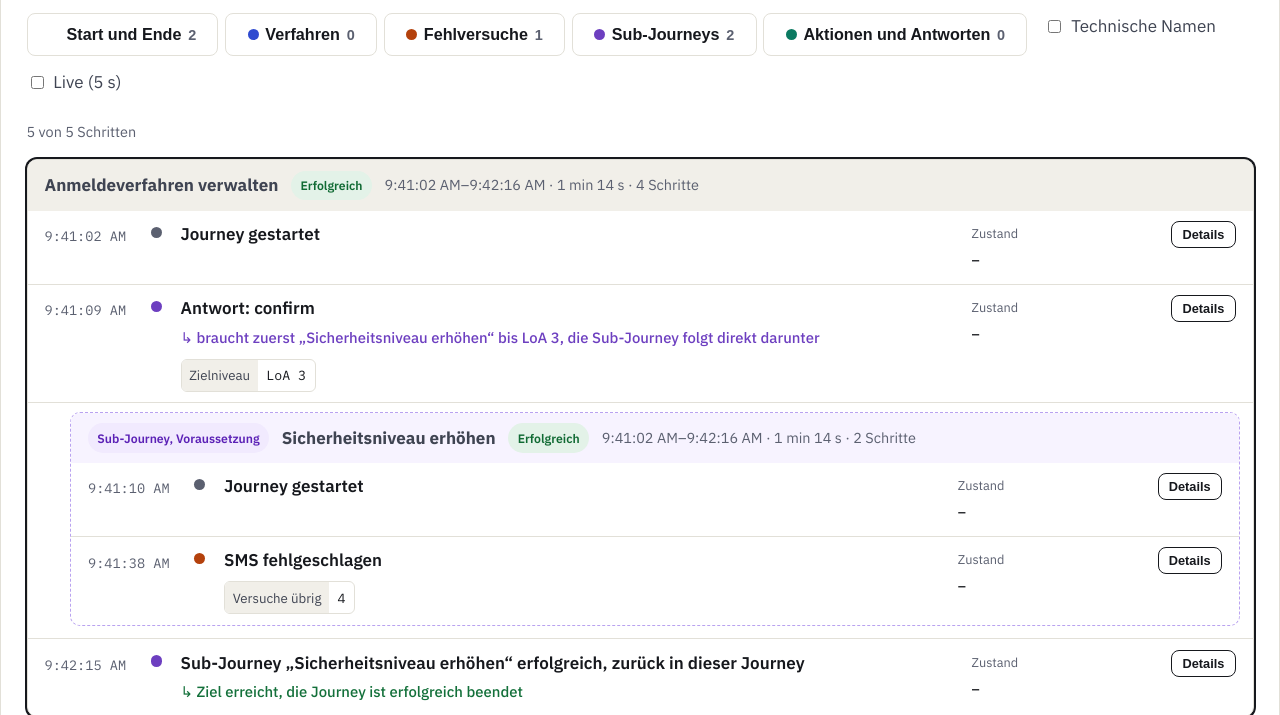
Test: JourneyTraceView › filters a channel’s steps by kind
The image size is (1280, 715).
(page scrolled)
Click the button "Fehlversuche 1" at (474, 35), box left=384, top=13, right=565, bottom=56
(page scrolled)
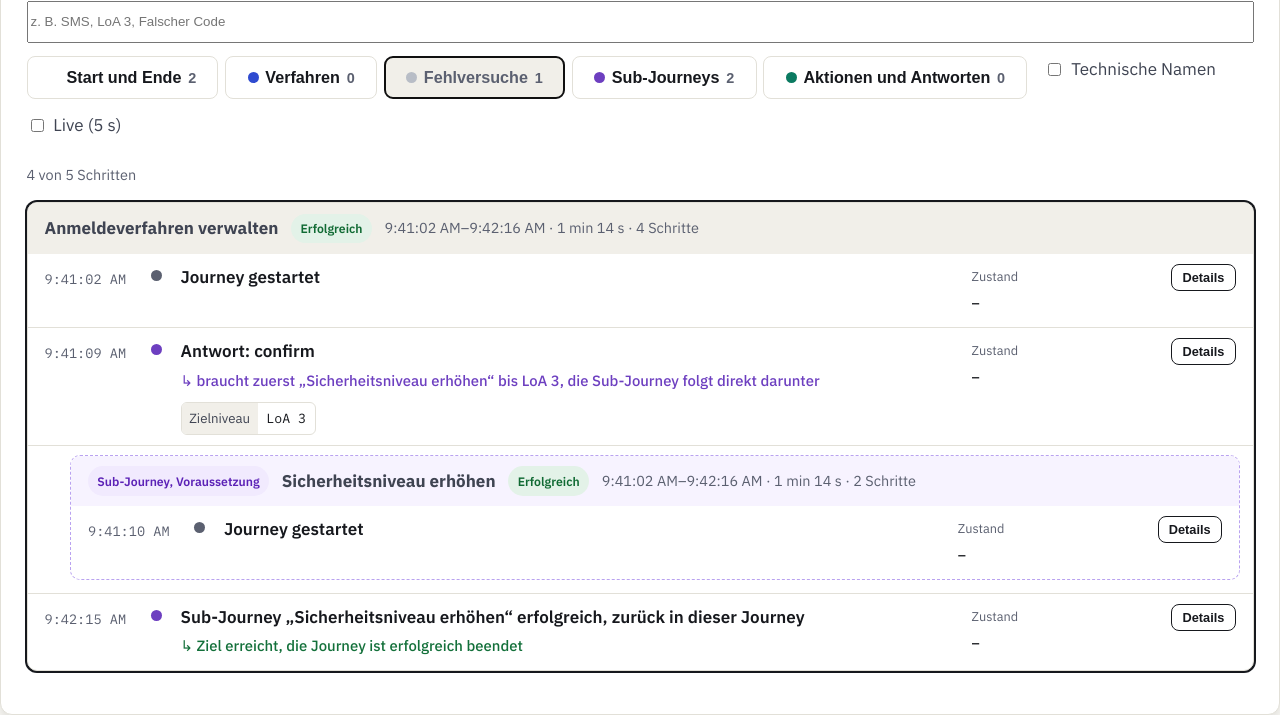
Check: the text "4 von 5 Schritten" is shown, box left=26, top=165, right=136, bottom=184
